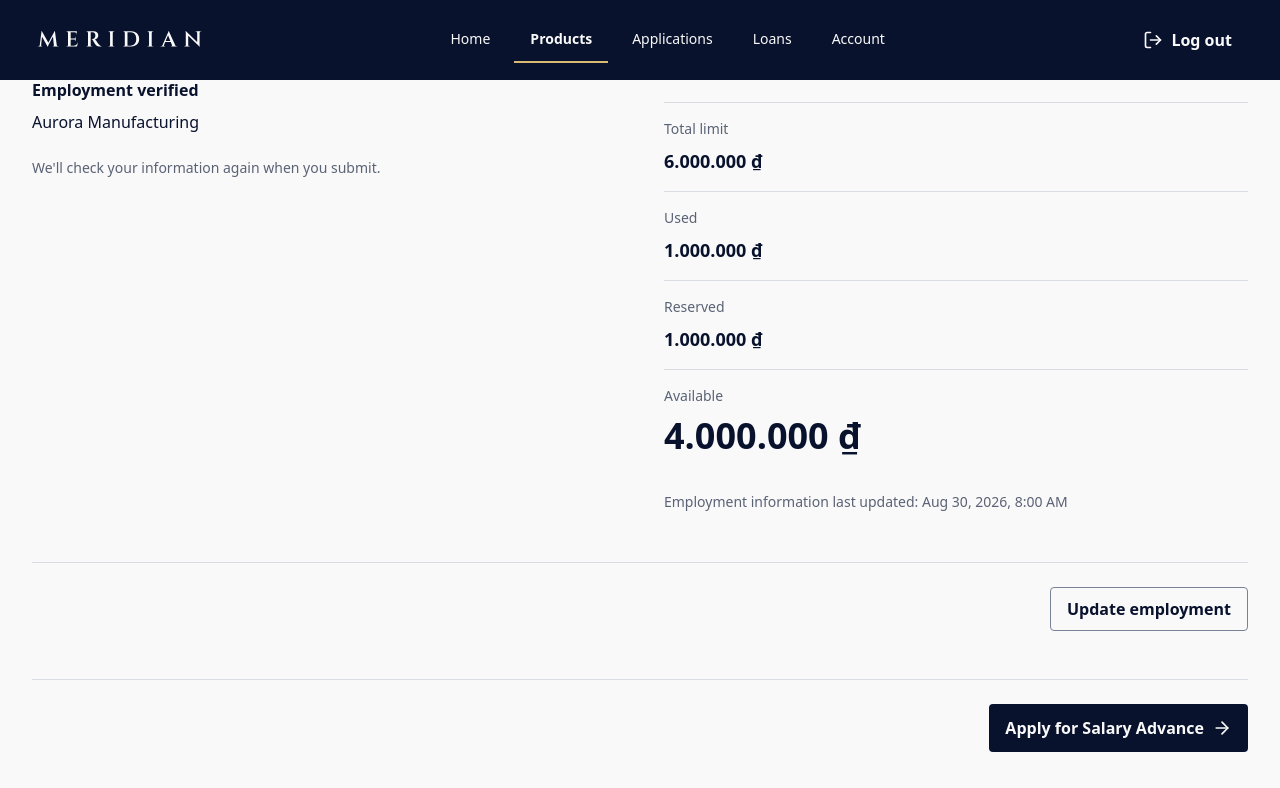
Test: FE-CP6 Salary Advance product readiness › blocks Apply when an employment update enters manual review
(page scrolled)
Click the button "Update employment" at (1149, 609), box [1050,587,1248,631]
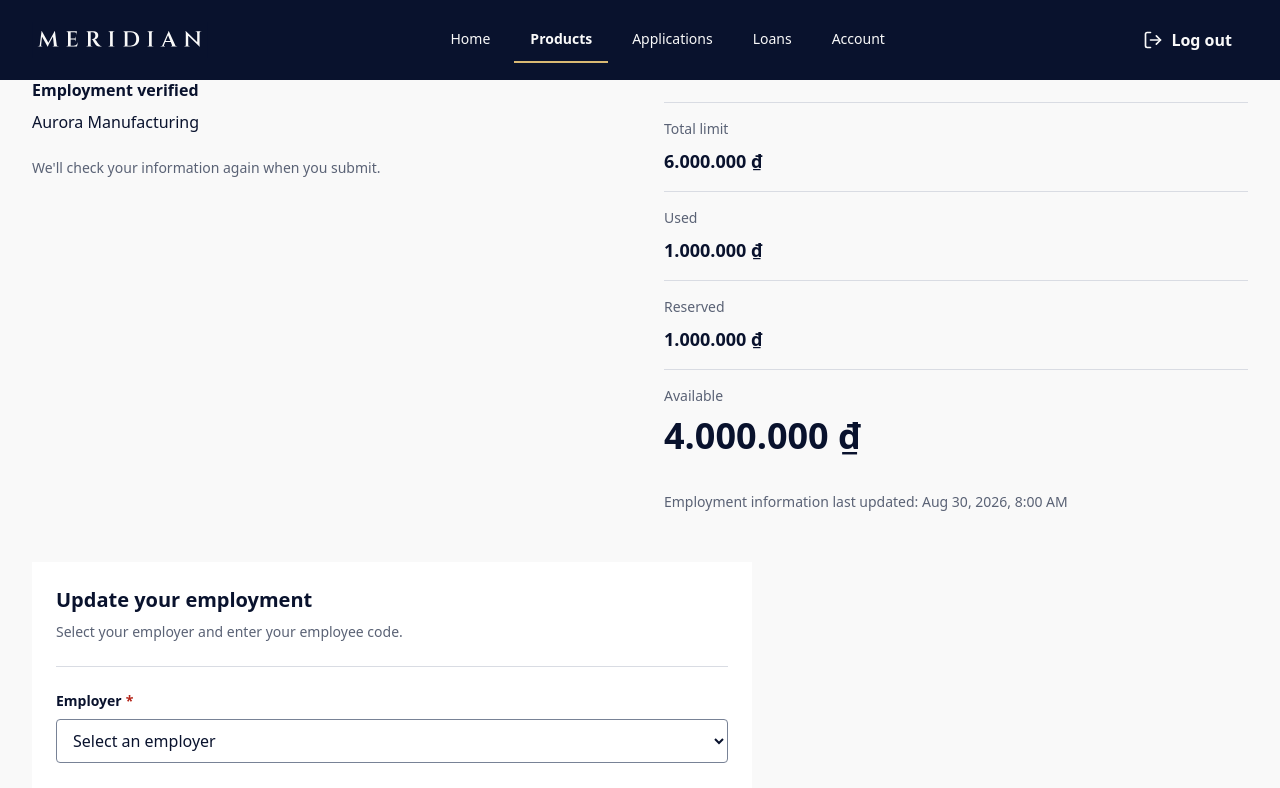
Select "A Partner Company with a deliberately long Customer-safe display name (MER-LONG)" in the dropdown labelled "Employer*" at (392, 741), box [56,719,728,763]
(page scrolled)
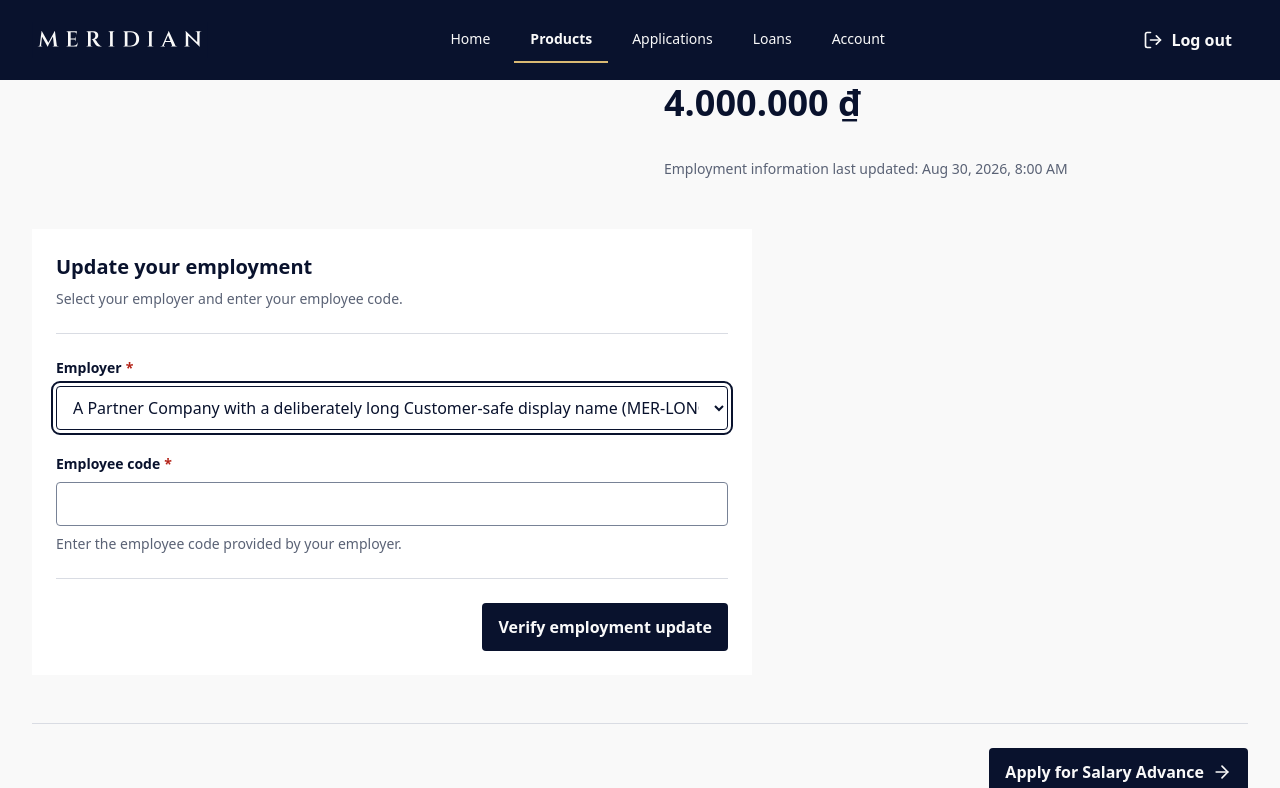
Type "UNRESOLVED-EMP" into the field labelled "Employee code*" at (392, 504), box [56,482,728,526]
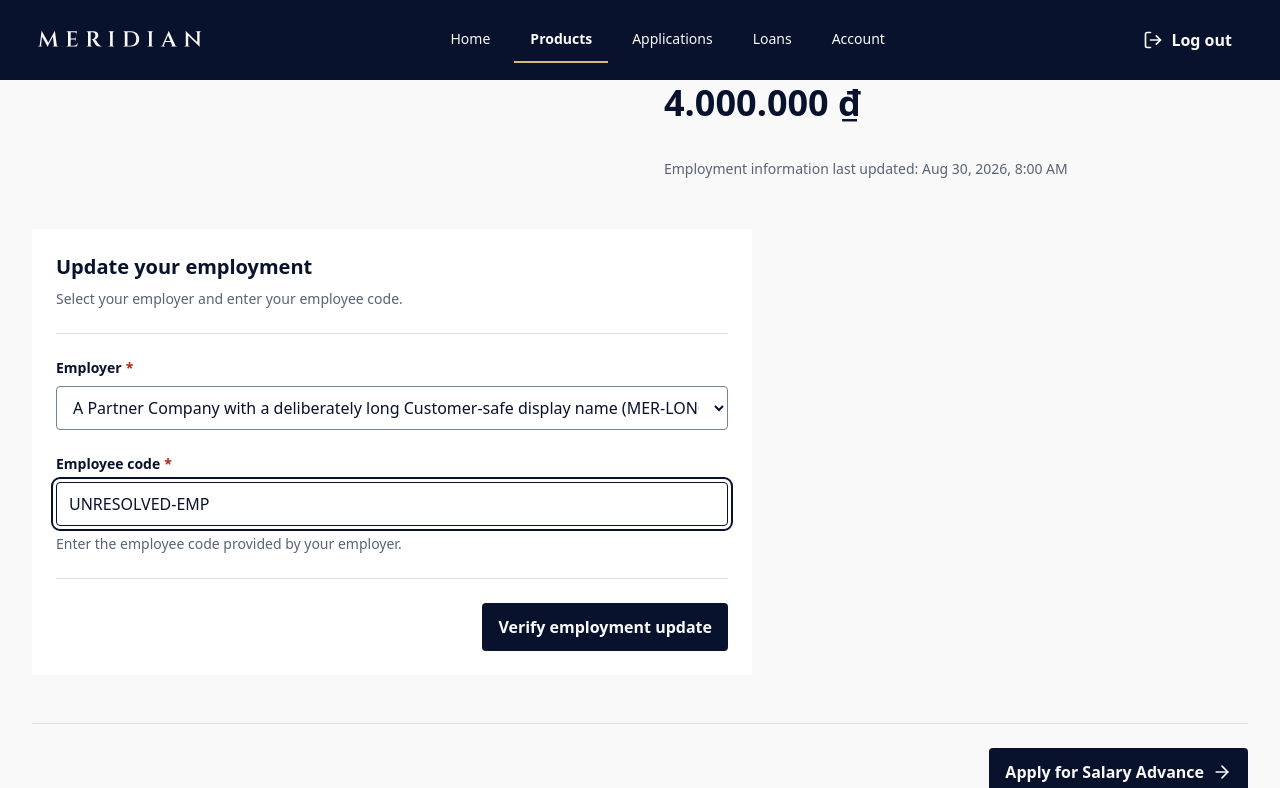
Click the button "Verify employment update" at (605, 627), box [482,603,728,651]
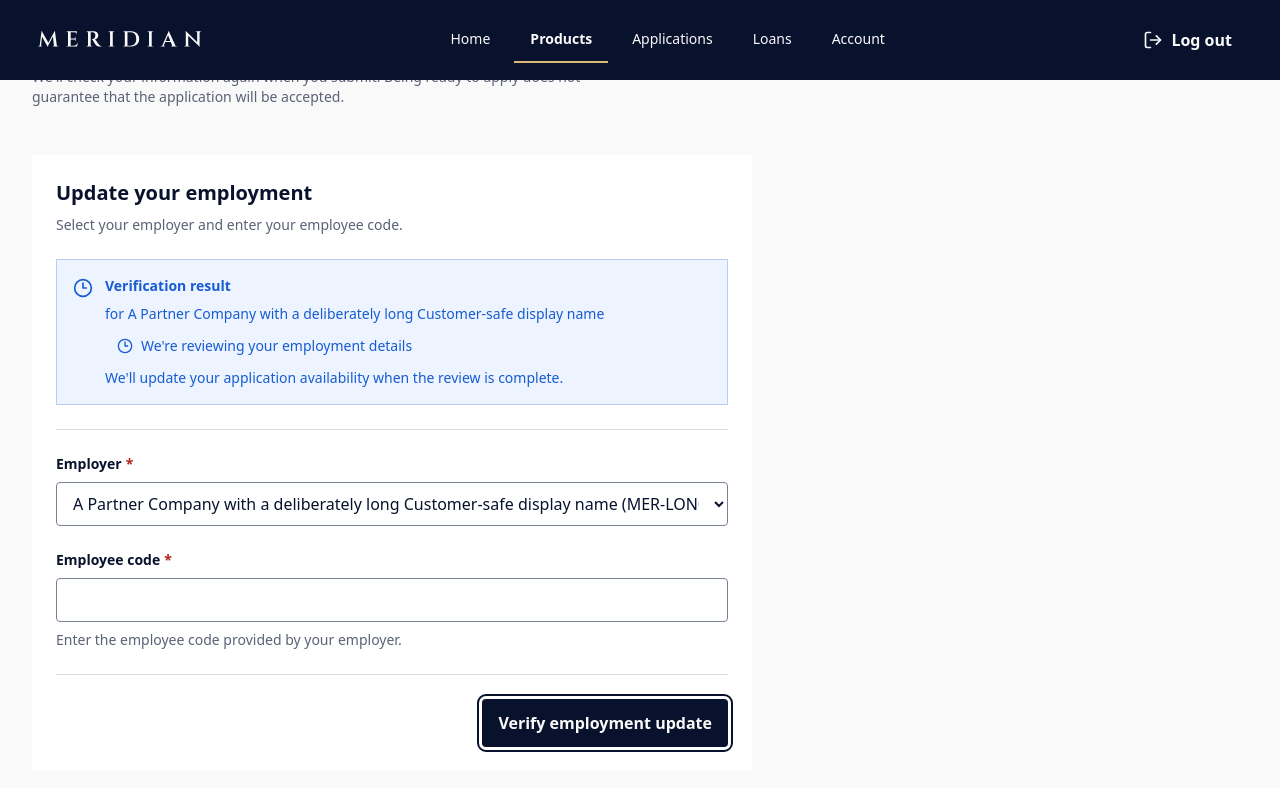
Check: the text "We're reviewing your employment details" is shown, box [141,336,412,356]
